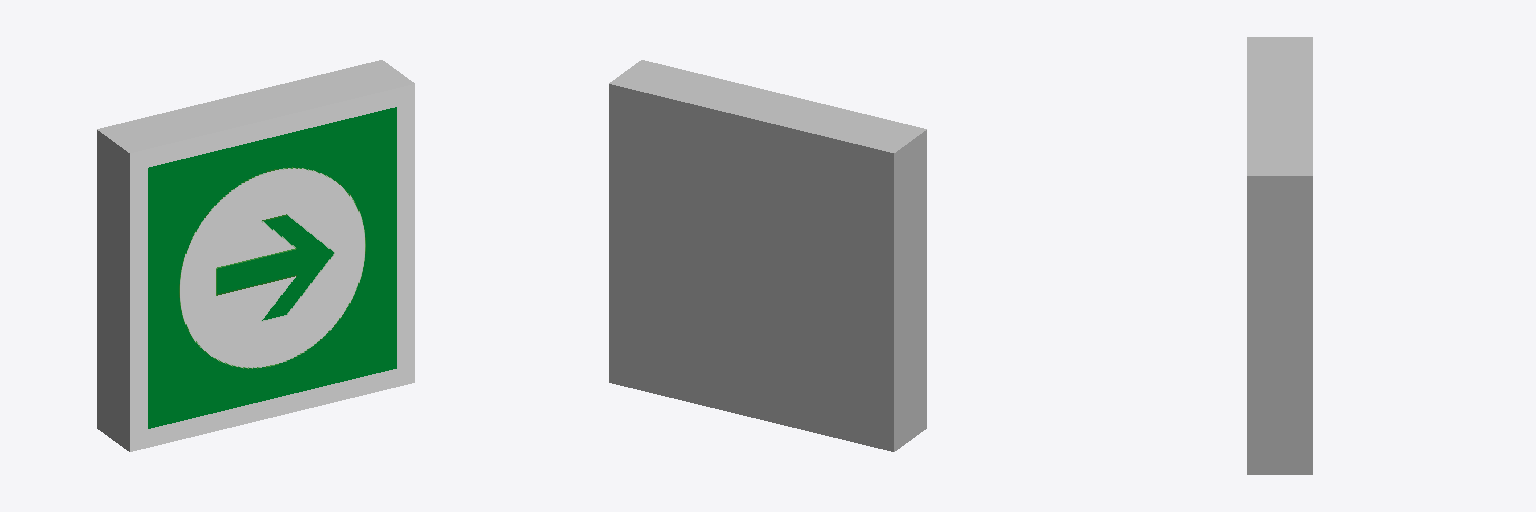
3 views of the same model, side by side, from view 1: azimuth 30°, elevation 25°; view 2: azimuth 150°, elevation 25°; view 3: azimuth 270°, elevation 25° (orthographic).
Visible parts, largest first — view 1: Cube; view 2: Cube; view 3: Cube.
Boxes of the visible parts, x1,y1,x2,y2 form: Cube: [97, 60, 414, 451]; Cube: [609, 60, 926, 451]; Cube: [1247, 37, 1312, 474].
Size of the model in its own units: 0.5 by 0.5 by 0.1.
2 materials, 1 textured.